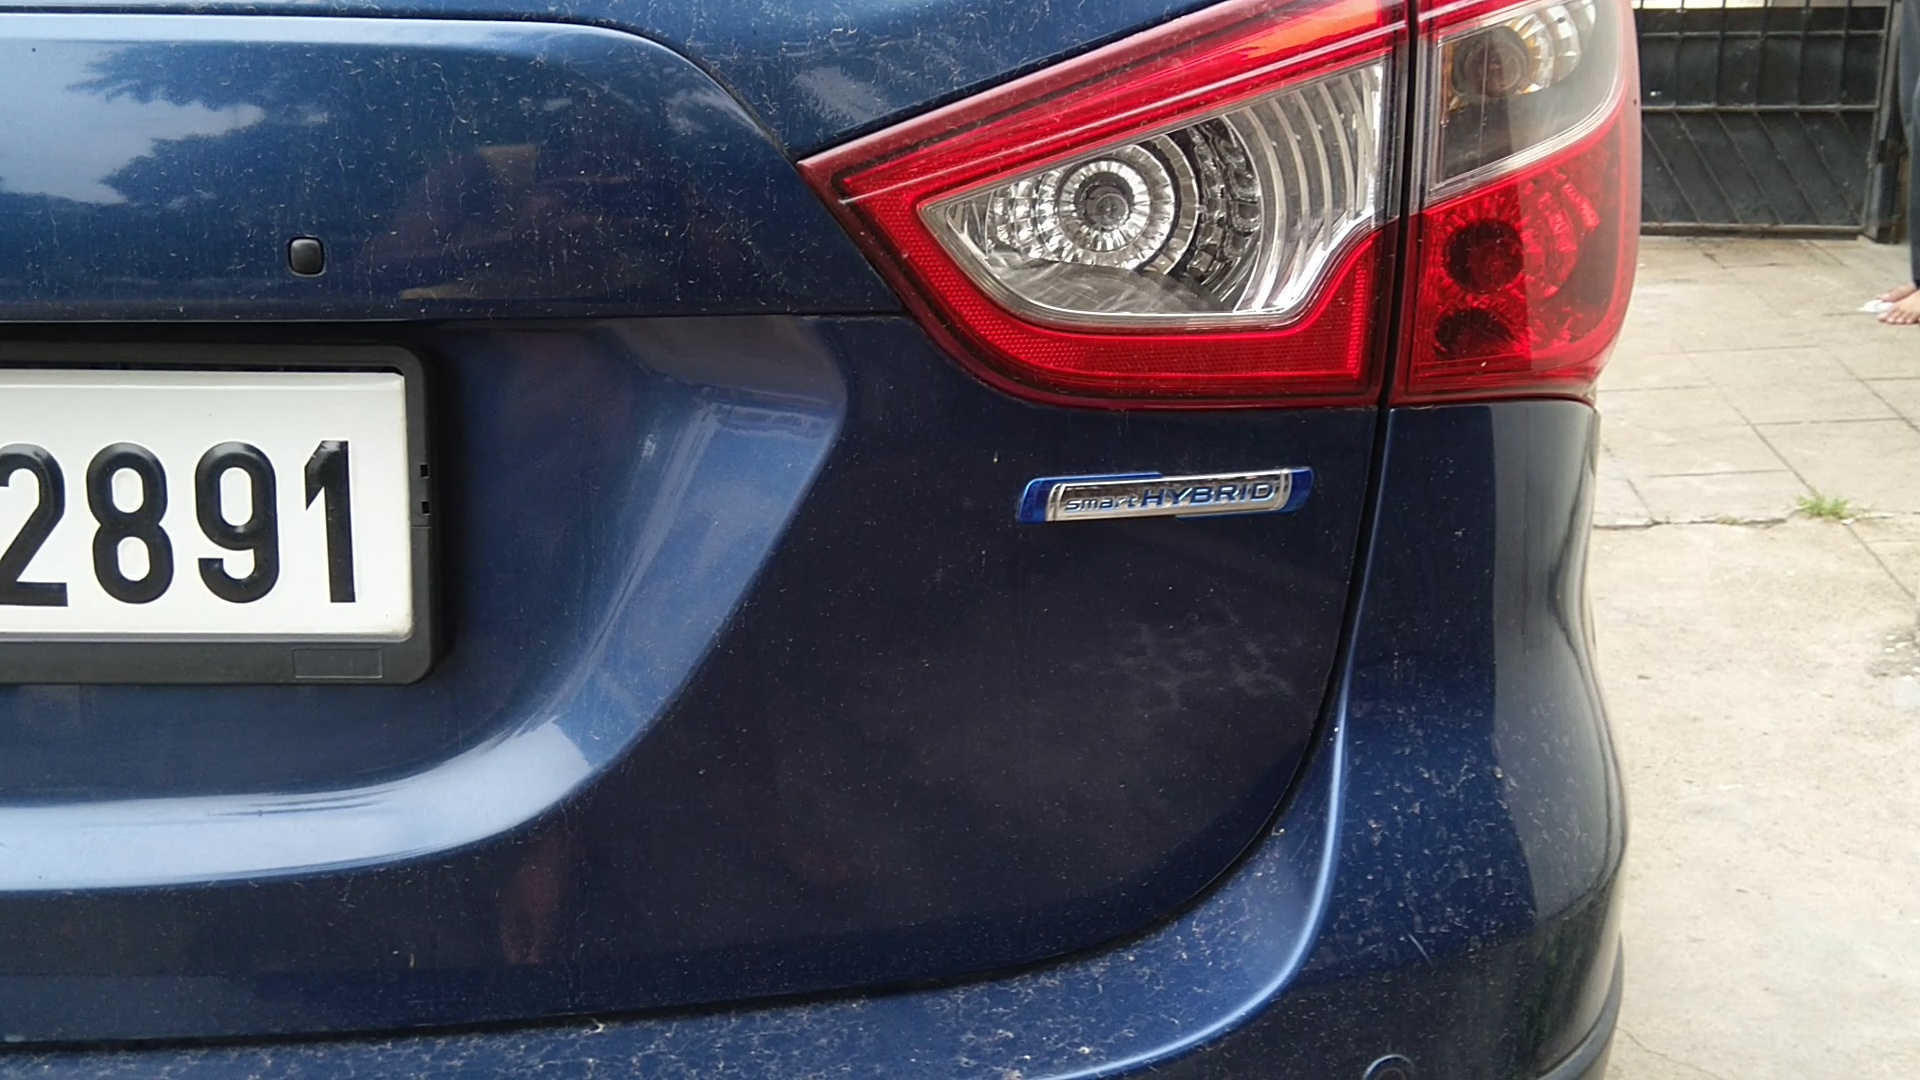shvs: (1000, 436, 1346, 566)
